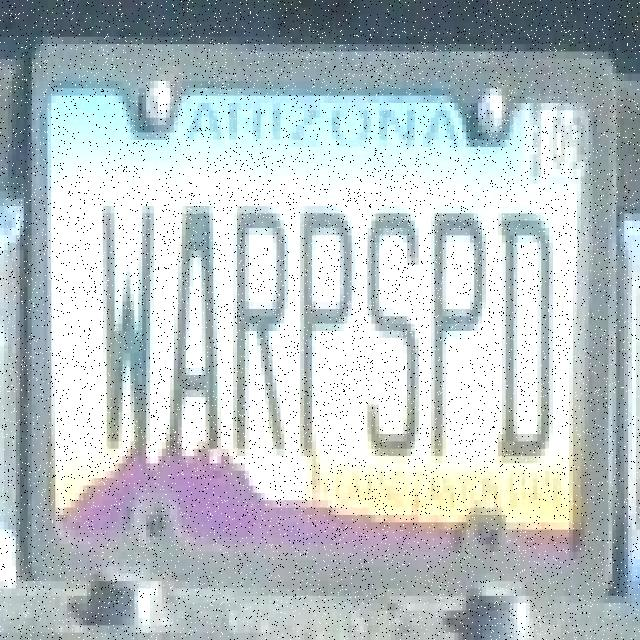licenseplate: (30, 43, 620, 590)
